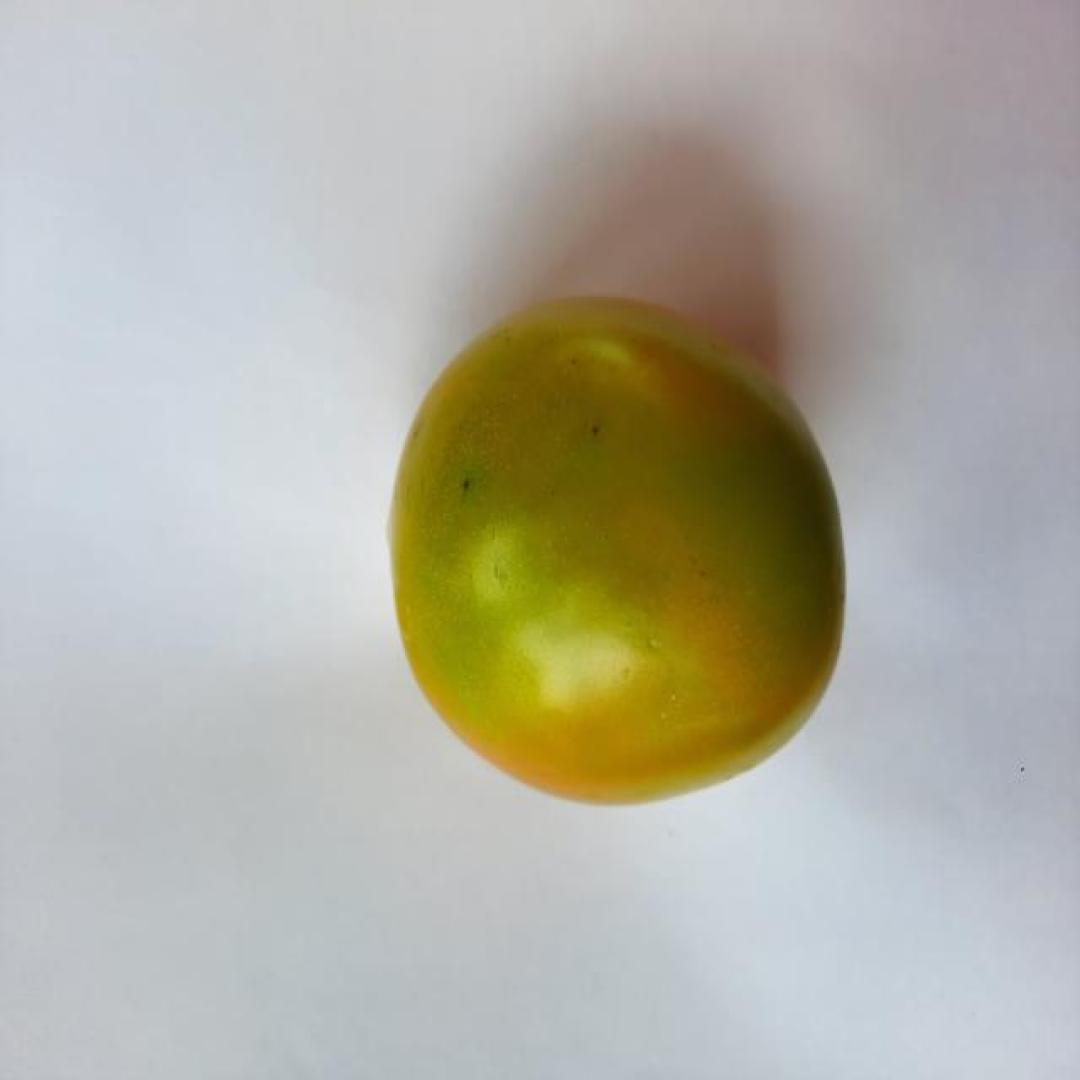setengah_matang: (380, 287, 852, 815)
